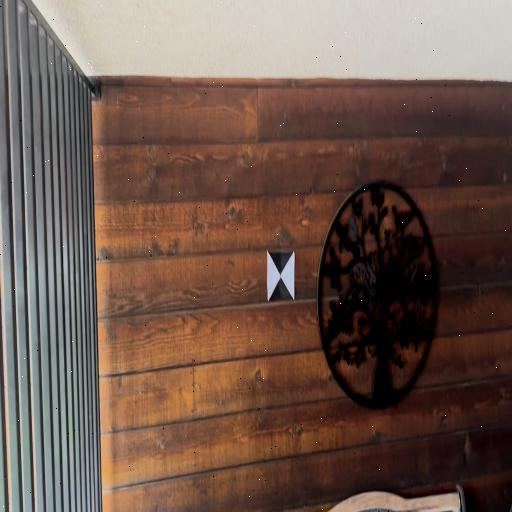target: (268, 252, 295, 301)
